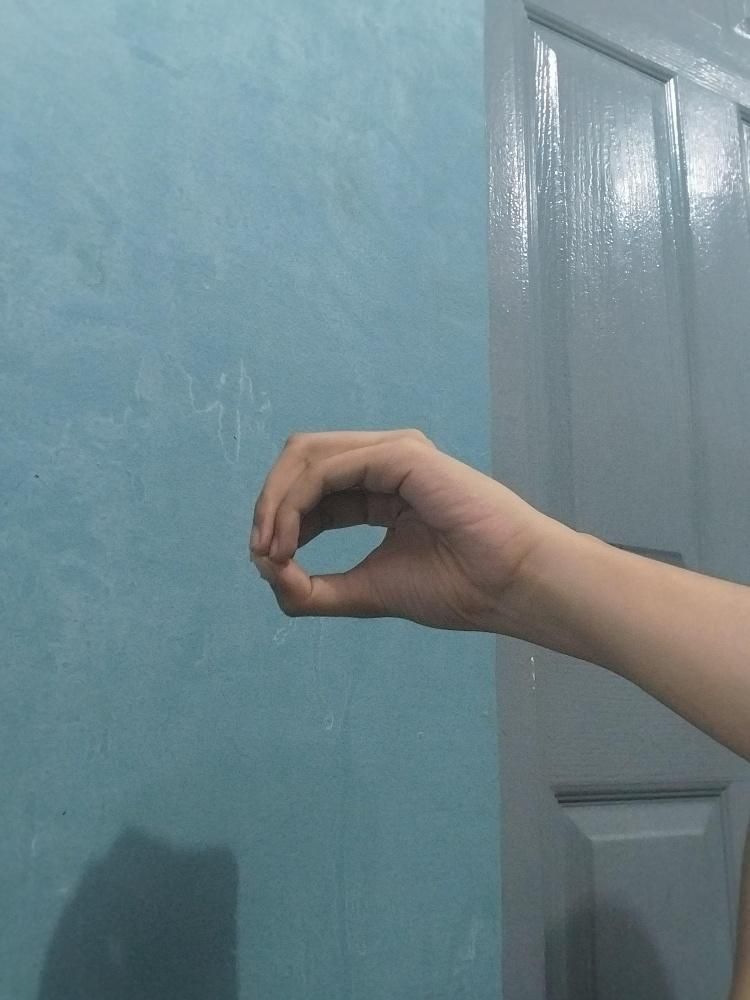o: (249, 424, 475, 627)
